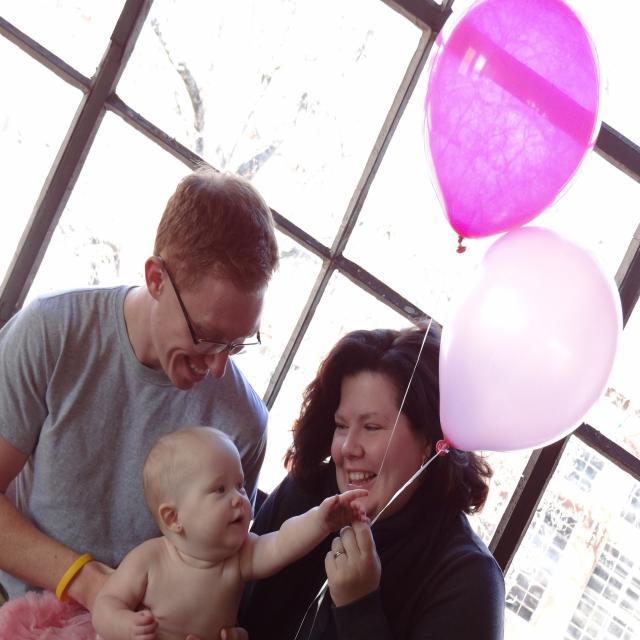balloon: (438, 231, 624, 451), (426, 0, 602, 231)
